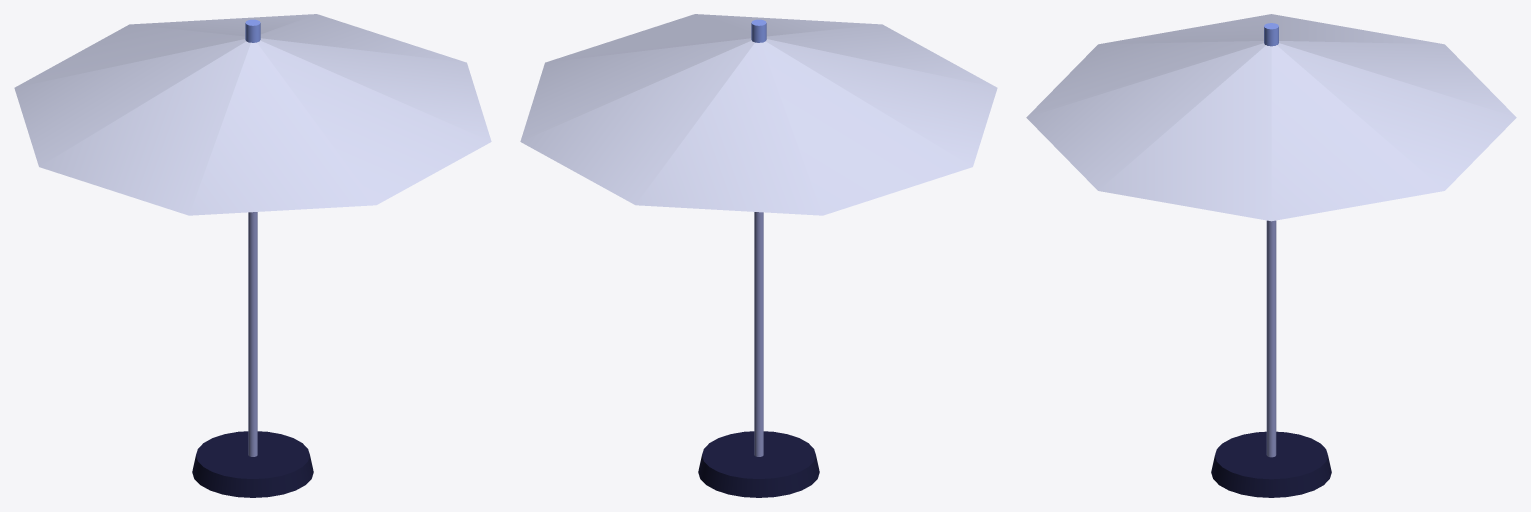
The model's file is umbrella.glb.
3 renders of one model, left to right at view 1: azimuth 30°, elevation 25°; view 2: azimuth 150°, elevation 25°; view 3: azimuth 270°, elevation 25°, orthographic.
Visible parts, largest first — view 1: canopy, base, pole; view 2: canopy, base, pole; view 3: canopy, base, pole.
Part boxes in pixels (left/top/right/bottom): canopy: left=14, top=14, right=491, bottom=215; base: left=192, top=431, right=313, bottom=497; pole: left=248, top=212, right=257, bottom=456; canopy: left=520, top=14, right=997, bottom=215; base: left=698, top=431, right=819, bottom=497; pole: left=754, top=212, right=763, bottom=456; canopy: left=1026, top=14, right=1516, bottom=221; base: left=1211, top=431, right=1331, bottom=497; pole: left=1266, top=220, right=1276, bottom=457.
Bounding box in the file's own units: 2.6 × 2.61 × 2.6.
